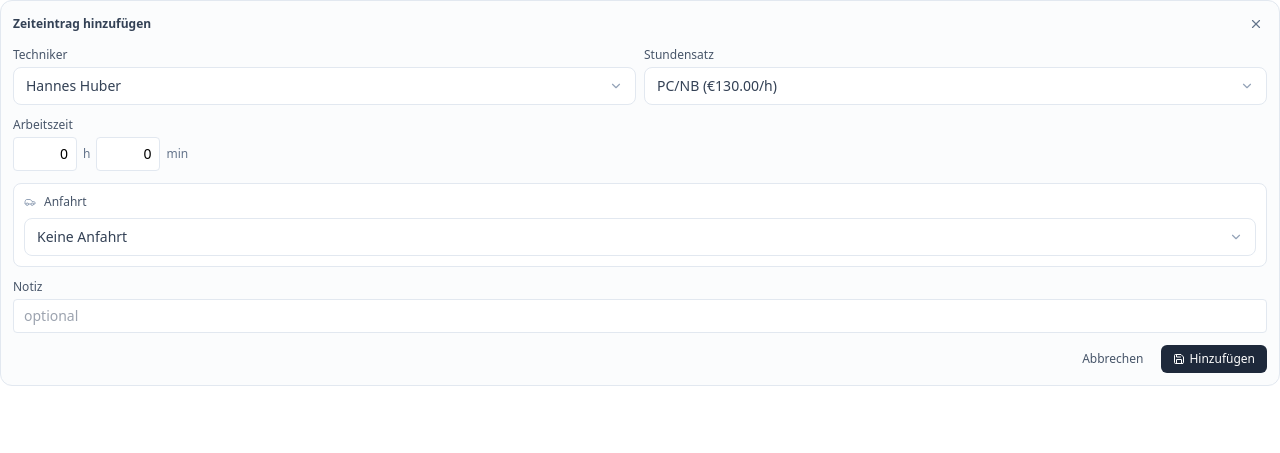
TimeEntryForm › blocks save when neither work time nor travel is recorded
This screenshot has width=1280, height=453.
Click the button "Hinzufügen": (1214, 359) [1161,345,1267,373]
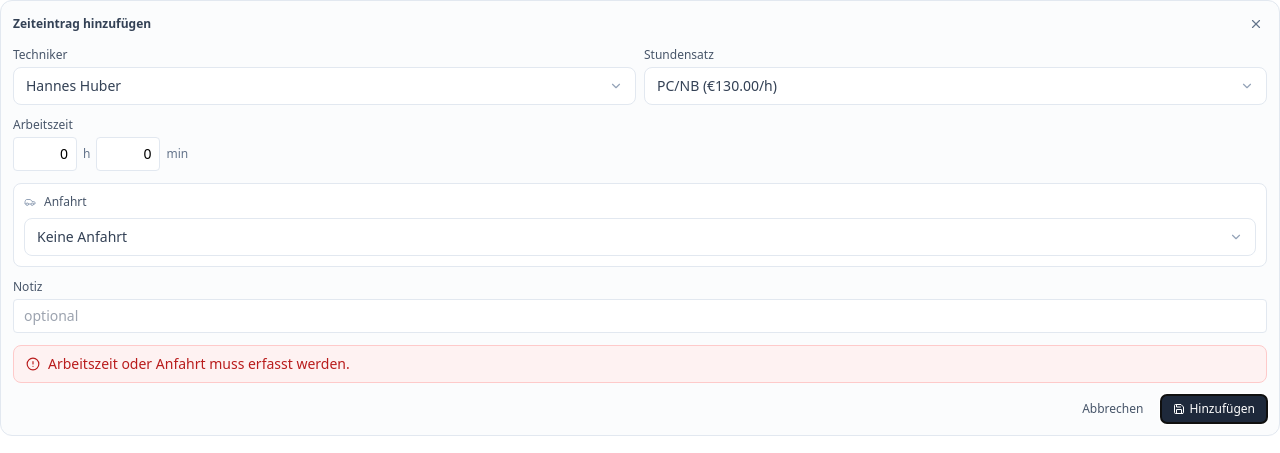
Check: the text "Arbeitszeit oder Anfahrt muss erfasst werden." is shown, box [13,345,1267,383]
